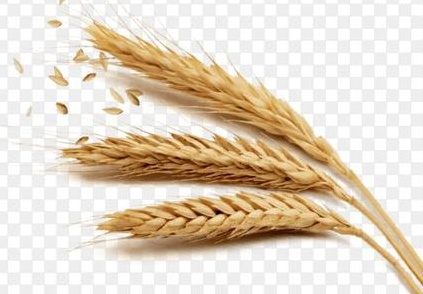wheat: (77, 20, 342, 166), (34, 122, 351, 196), (72, 190, 359, 237)
